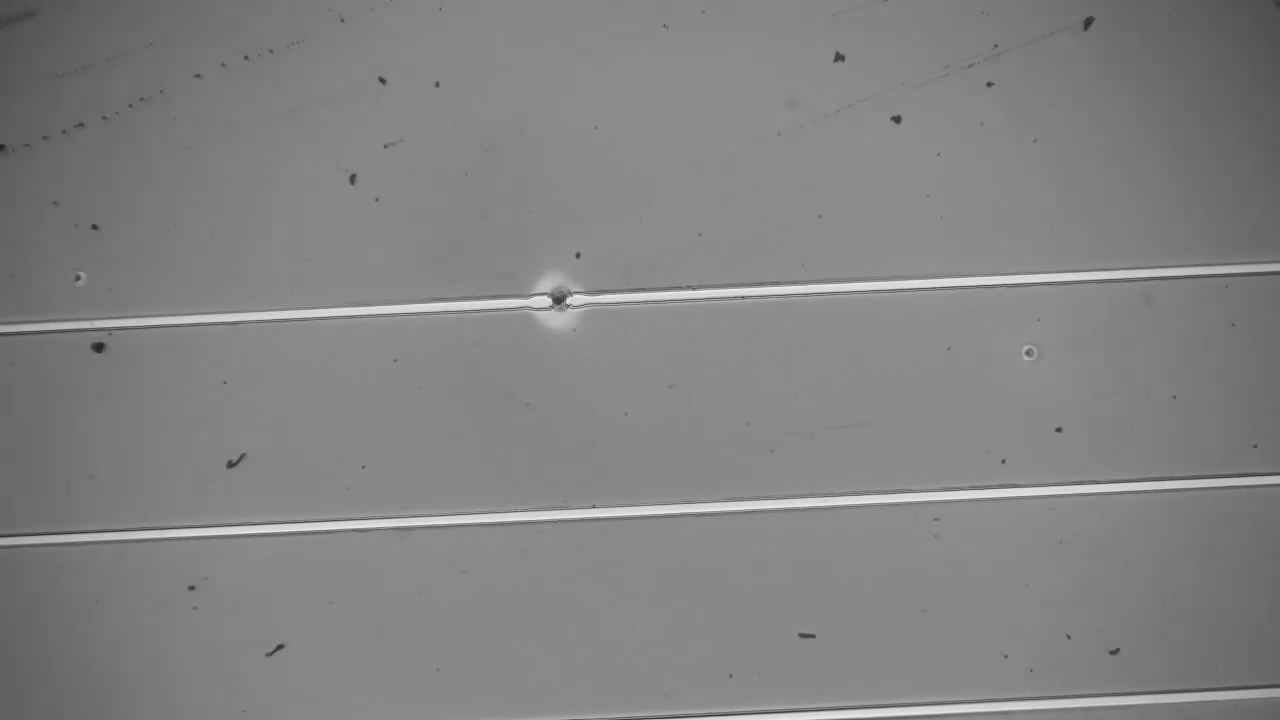stains_enbedded: (537, 281, 590, 323)
